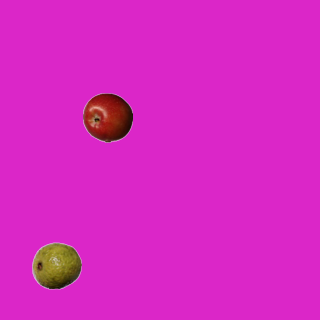Apple Braeburn: (82, 92, 132, 142)
Guava: (31, 240, 81, 290)
